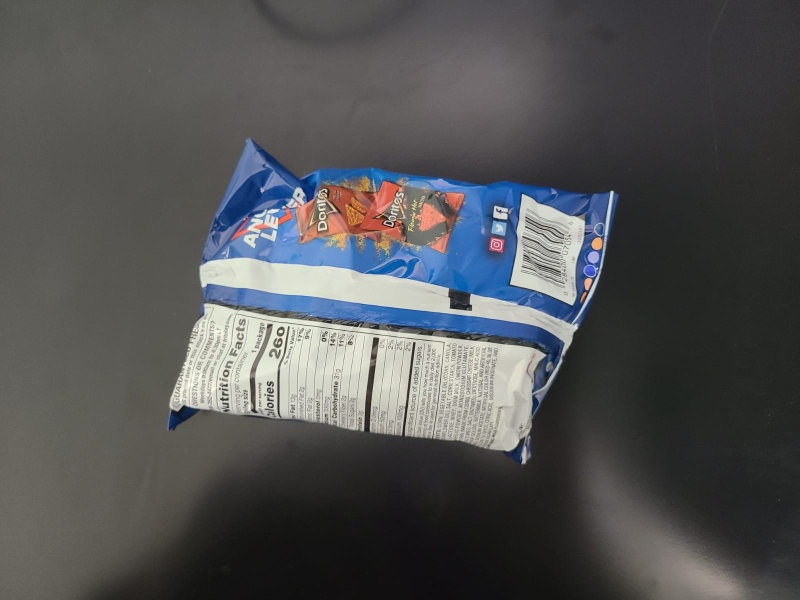doritos: (164, 137, 617, 469)
